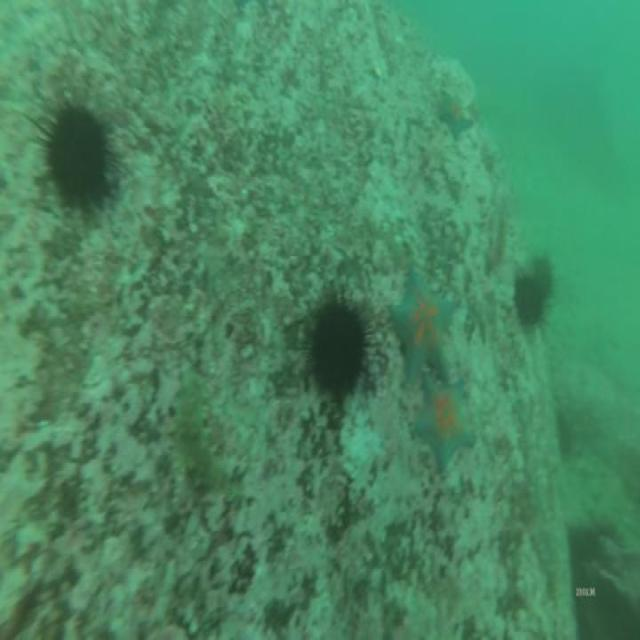echinus: (46, 109, 108, 209), (314, 297, 365, 392), (513, 278, 544, 324), (535, 258, 554, 302)
holothurian: (176, 378, 216, 490)
starfish: (393, 272, 453, 379), (415, 384, 472, 460), (439, 94, 473, 138)
